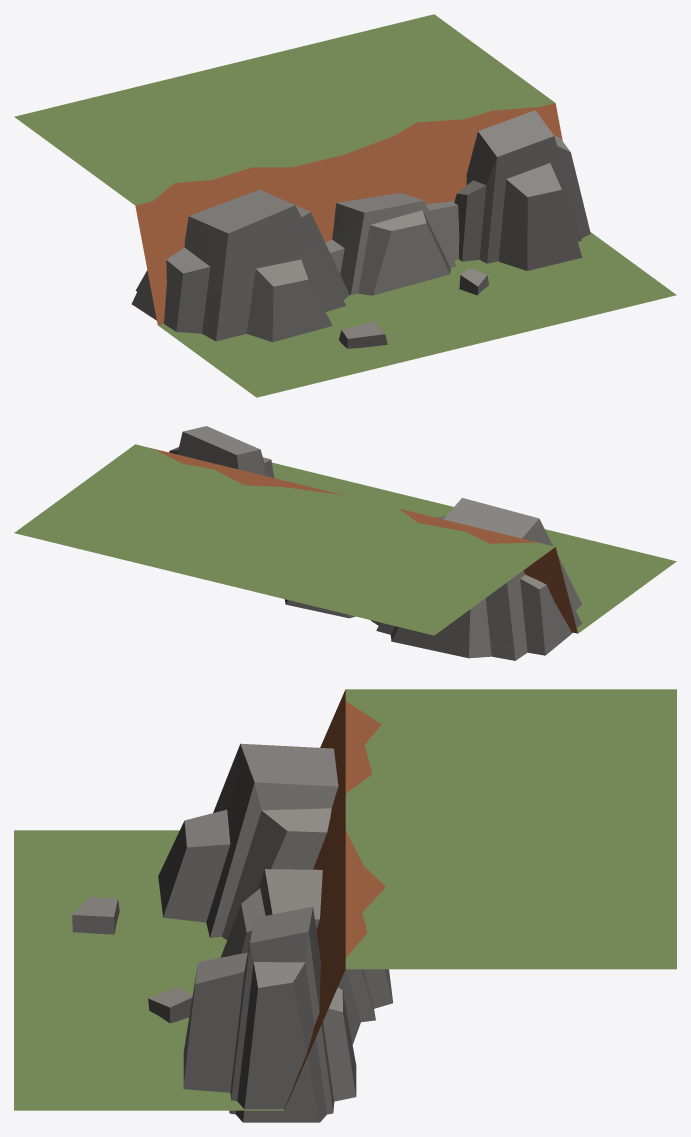
File: SA_Env_HillTile_01.gltf
The picture shows the model from 3 angles, top to bottom: view 1: azimuth 30°, elevation 25°; view 2: azimuth 150°, elevation 25°; view 3: azimuth 270°, elevation 25°; orthographic projection. The views are drawn at different scales.
Visible parts, largest first — view 1: SA_Env_HillTile_01; view 2: SA_Env_HillTile_01; view 3: SA_Env_HillTile_01.
Boxes of the visible parts, box(x1,y1,x2,y2) form: SA_Env_HillTile_01: box(14, 14, 676, 397); SA_Env_HillTile_01: box(14, 426, 676, 660); SA_Env_HillTile_01: box(14, 689, 676, 1122).
Bounding box in the file's own units: 15 × 4.2 × 15.
Materials: 1 (1 with a texture image).
